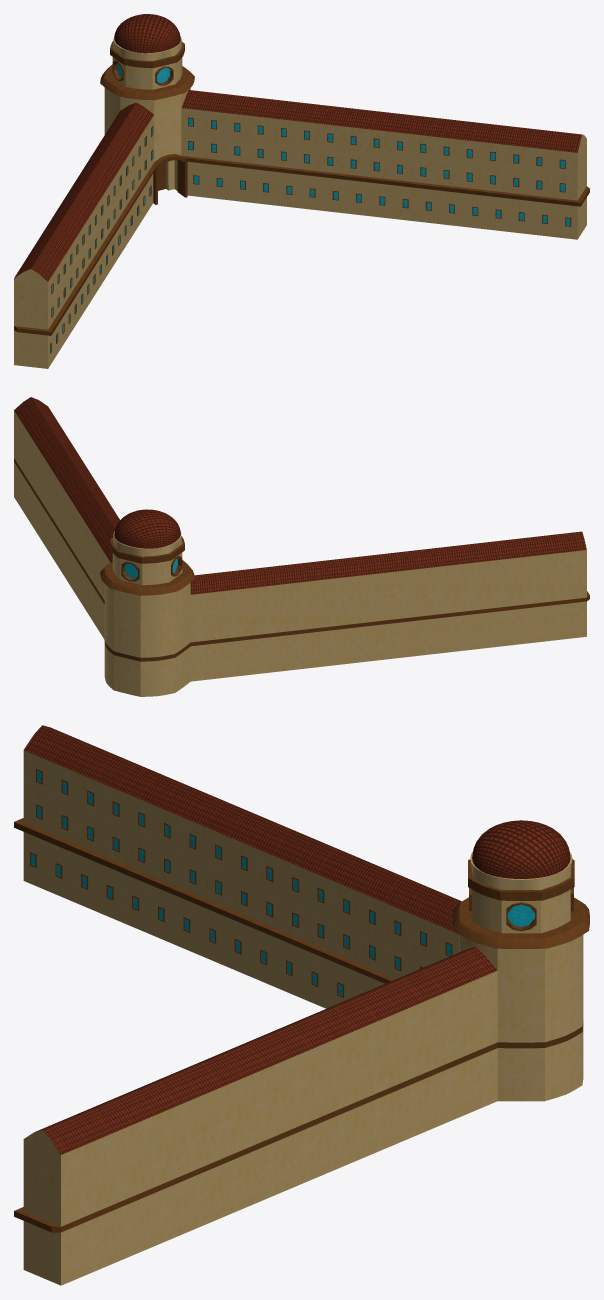
Rendered from prision.fbx.
The picture shows the model from 3 angles, top to bottom: view 1: azimuth 30°, elevation 25°; view 2: azimuth 150°, elevation 25°; view 3: azimuth 270°, elevation 25°; orthographic projection. The views are drawn at different scales.
Parts seen in each view (by area): view 1: Edificio; view 2: Edificio; view 3: Edificio.
Boxes of the visible parts, x1,y1,x2,y2 form: Edificio: (14, 14, 589, 368); Edificio: (14, 397, 589, 696); Edificio: (14, 725, 589, 1285).
Size of the model in its own units: 21992 by 6038 by 12722.
